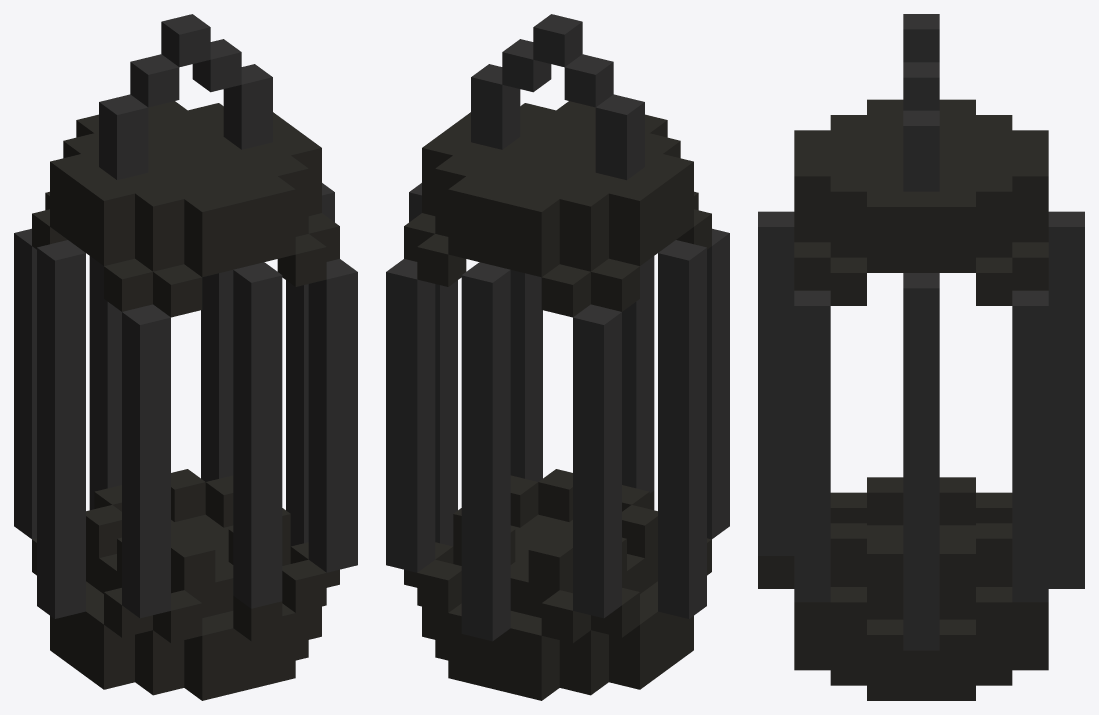
The model's file is Lantern2.obj.
3 renders of one model, left to right at view 1: azimuth 30°, elevation 25°; view 2: azimuth 150°, elevation 25°; view 3: azimuth 270°, elevation 25°, orthographic.
Size of the model in its own units: 0.9 by 1.9 by 0.9.
Materials: 1 (1 with a texture image).
